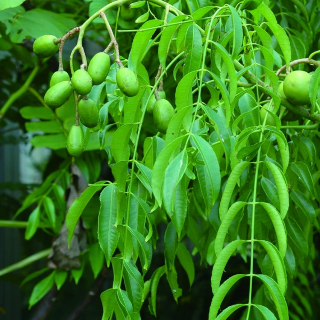coc: (44, 80, 72, 109), (116, 67, 139, 98), (78, 98, 98, 127), (72, 69, 93, 93), (68, 126, 83, 155)
